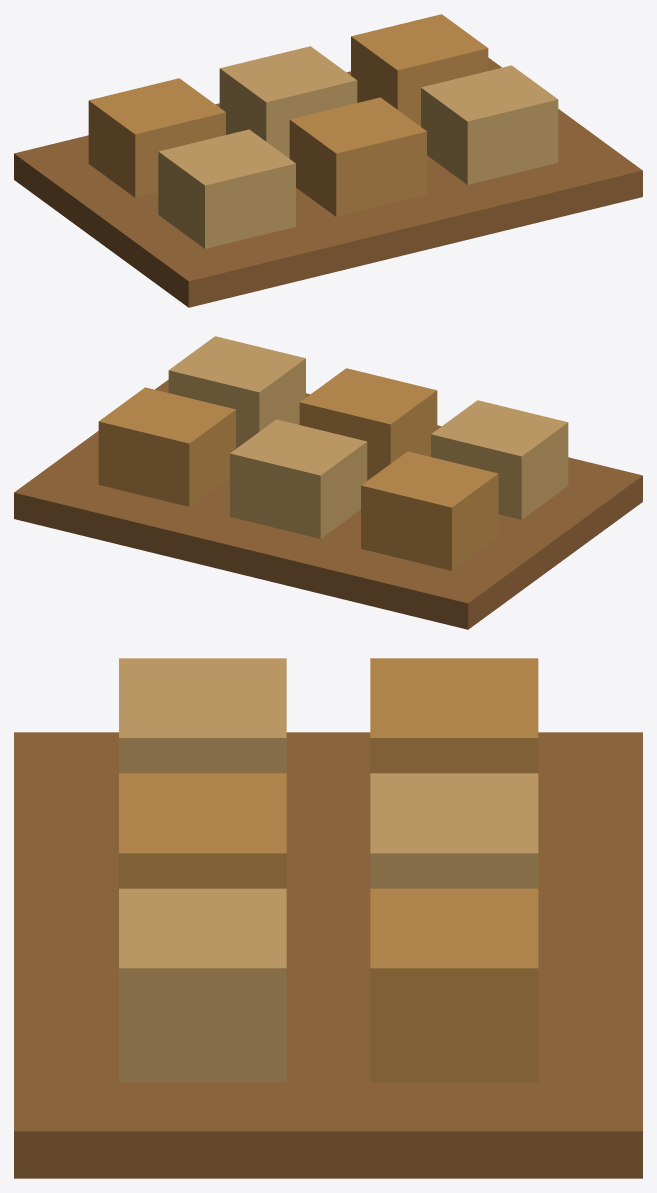
File: cp-tray-buns.glb
The picture shows the model from 3 angles, top to bottom: view 1: azimuth 30°, elevation 25°; view 2: azimuth 150°, elevation 25°; view 3: azimuth 270°, elevation 25°; orthographic projection. The views are drawn at different scales.
Parts seen in each view (by area): view 1: box-prop; view 2: box-prop; view 3: box-prop.
Boxes of the visible parts, left/top/right/bottom form: box-prop: left=14, top=14, right=642, bottom=307; box-prop: left=14, top=336, right=642, bottom=629; box-prop: left=14, top=658, right=642, bottom=1178.
Size of the model in its own units: 0.9 by 0.17 by 0.6.
